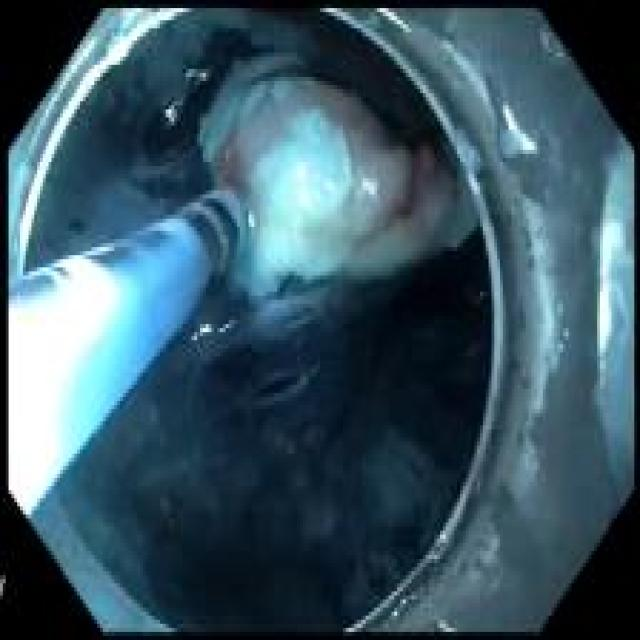contrast: (359, 261, 498, 450), (158, 482, 322, 629)
instrument: (9, 193, 249, 518)
saturation: (8, 257, 116, 516)
specularity: (22, 11, 184, 261), (599, 225, 622, 356), (376, 9, 409, 32), (361, 180, 379, 203), (192, 326, 213, 341), (293, 164, 308, 181), (166, 107, 176, 125), (250, 213, 256, 227)
